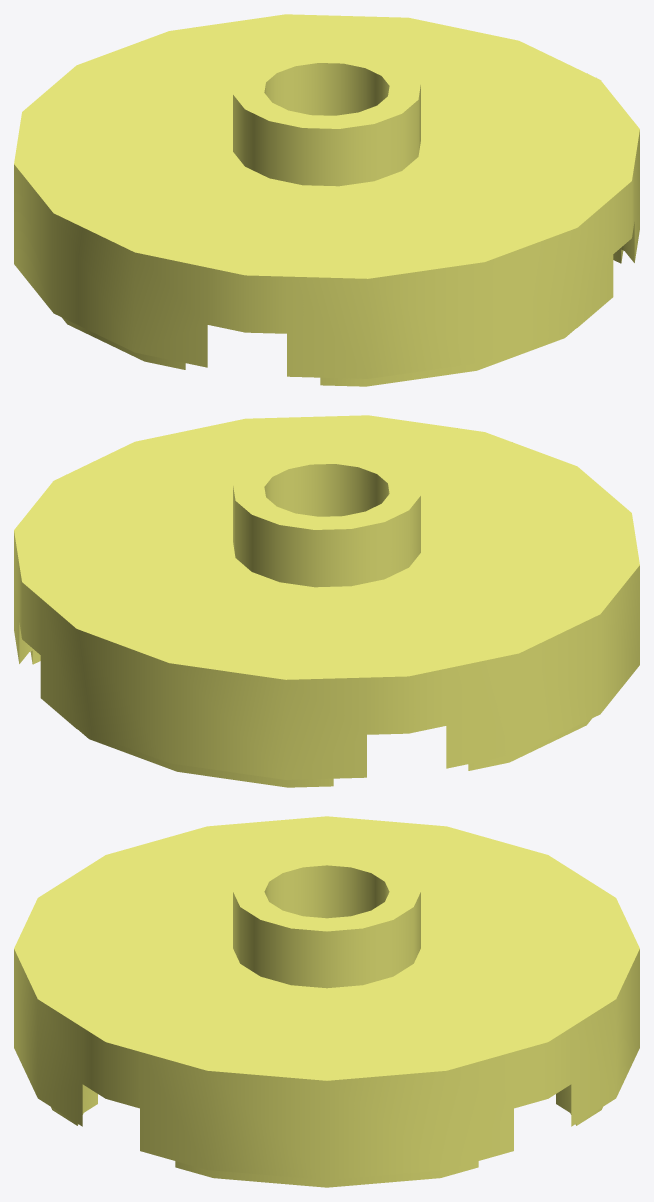
3 views of the same model, one above another, from view 1: azimuth 30°, elevation 25°; view 2: azimuth 150°, elevation 25°; view 3: azimuth 270°, elevation 25° (orthographic).
Parts seen in each view (by area): view 1: 18674.dat; view 2: 18674.dat; view 3: 18674.dat.
Boxes of the visible parts, box(x1,y1,x2,y2) form: 18674.dat: box(14, 14, 639, 386); 18674.dat: box(14, 415, 639, 787); 18674.dat: box(14, 816, 639, 1187).
Bounding box in the file's own units: 0.016 × 0.0048 × 0.016.
